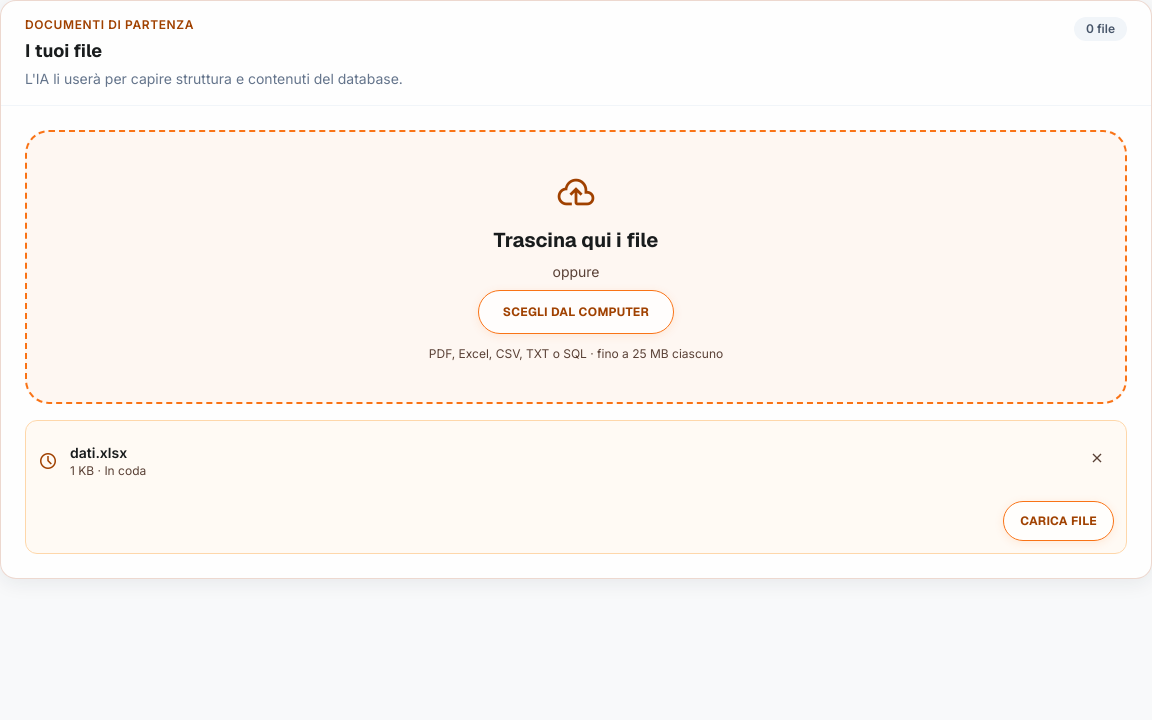
it: DocumentUploader › uploads a valid xlsx and reports success
The width and height of the screenshot is (1152, 720).
Earlier steps of the test are not shown.
What coordinates should you click on to do the following:
click the button "Carica file"
I would click on:
 (1059, 521)
Its box is [1003,501,1114,541].
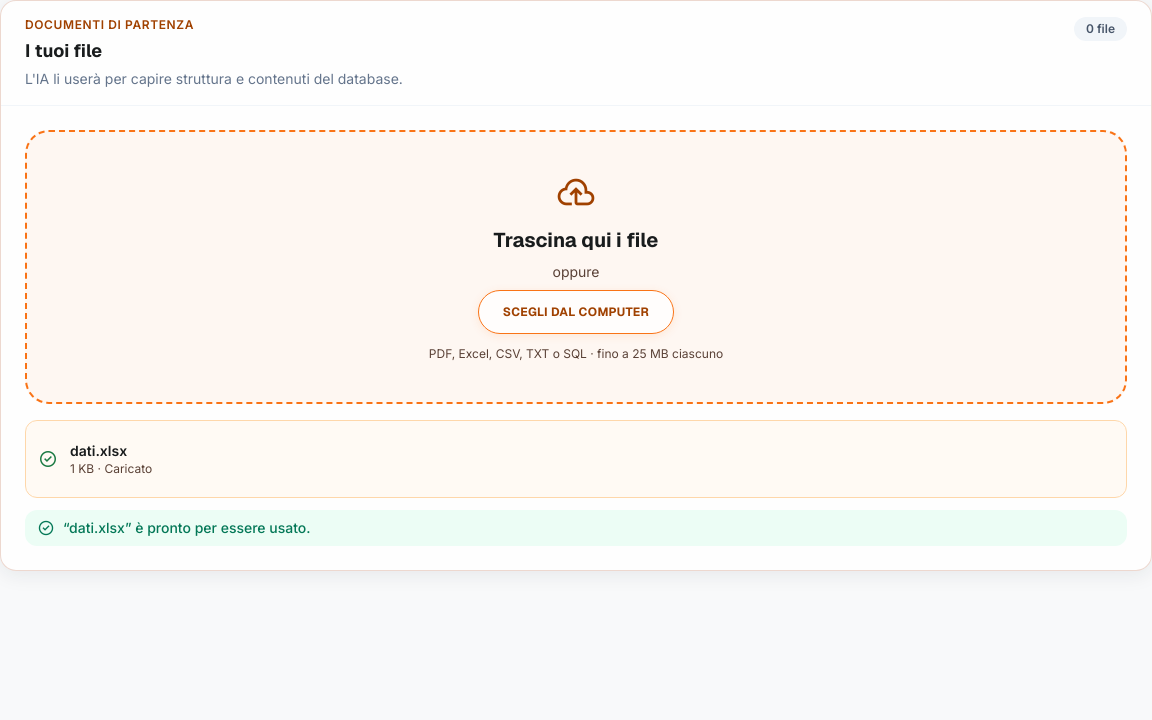
Expected: the text "“dati.xlsx” è pronto per essere usato." is shown, [25,510,1127,546]
